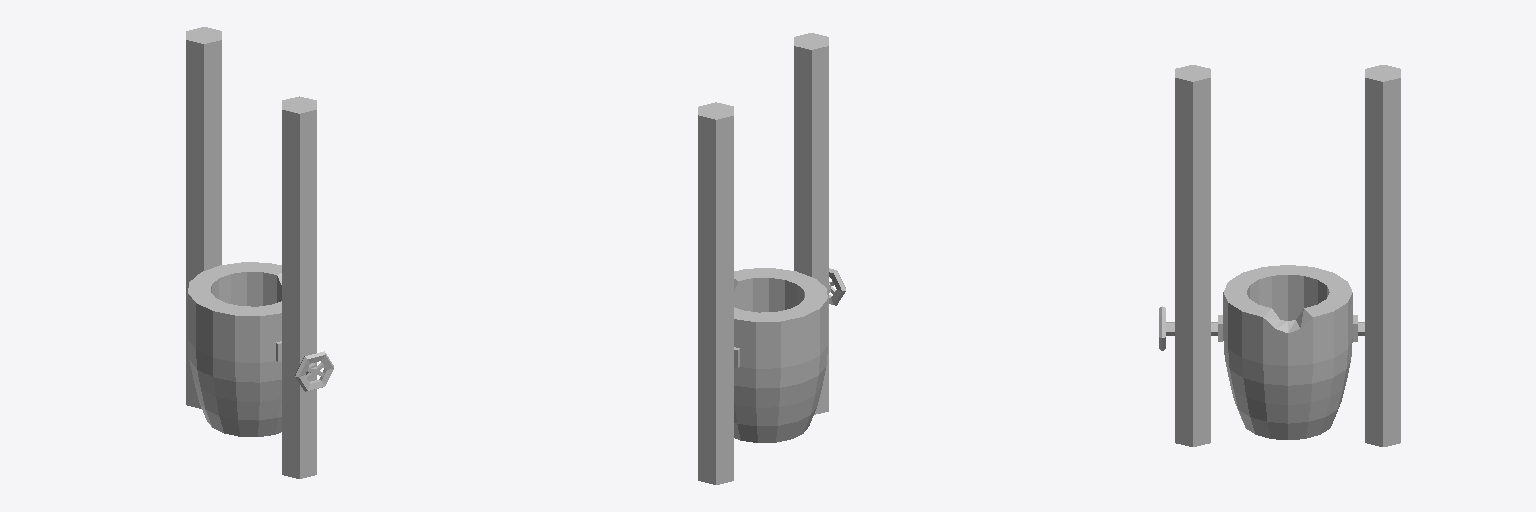
Rendered from Crucible_02.obj.
The picture shows the model from 3 angles: view 1: azimuth 30°, elevation 25°; view 2: azimuth 150°, elevation 25°; view 3: azimuth 270°, elevation 25°; orthographic projection.
Parts seen in each view (by area): view 1: Crucible Crucible, Crucible Pole1, Crucible Pole2, Crucible Wheel; view 2: Crucible Crucible, Crucible Pole2, Crucible Pole1; view 3: Crucible Crucible, Crucible Pole2, Crucible Pole1.
Boxes of the visible parts, <box> form: Crucible Crucible: <box>188,262,281,436</box>; Crucible Pole1: <box>282,96,316,478</box>; Crucible Pole2: <box>186,27,221,408</box>; Crucible Wheel: <box>295,351,333,391</box>; Crucible Crucible: <box>734,268,827,442</box>; Crucible Pole2: <box>698,102,733,484</box>; Crucible Pole1: <box>794,33,828,414</box>; Crucible Crucible: <box>1223,265,1352,439</box>; Crucible Pole2: <box>1365,65,1400,446</box>; Crucible Pole1: <box>1175,65,1210,446</box>.
Bounding box in the file's own units: 195 × 607 × 365.